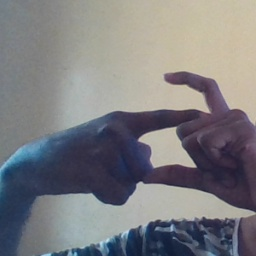E: (112, 61, 228, 195)
